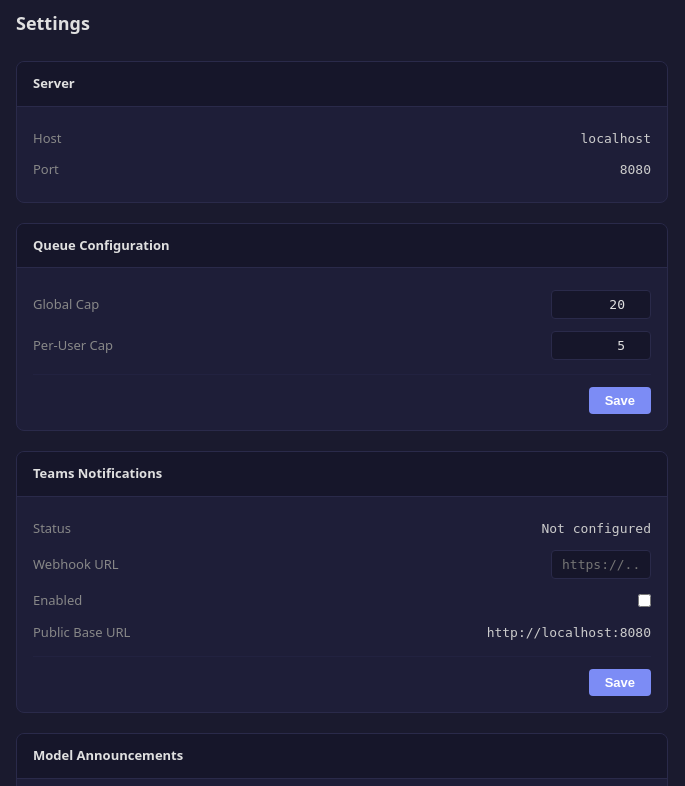
Test: surfaces a save error without crashing
The image size is (685, 786).
Expected: the text "Teams Notifications" is shown, [17,452,667,496]
Step 1. Type "bad" into the field → (601, 564), box [551,550,651,579]
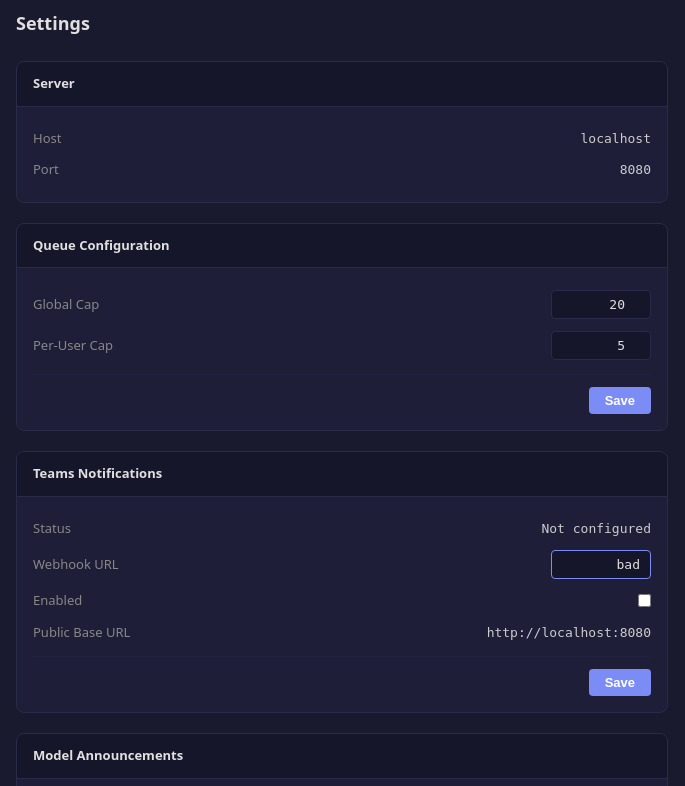
Step 2. Click the button "Save" below "http://localhost:8080" → click(620, 682), box [589,669,651,696]
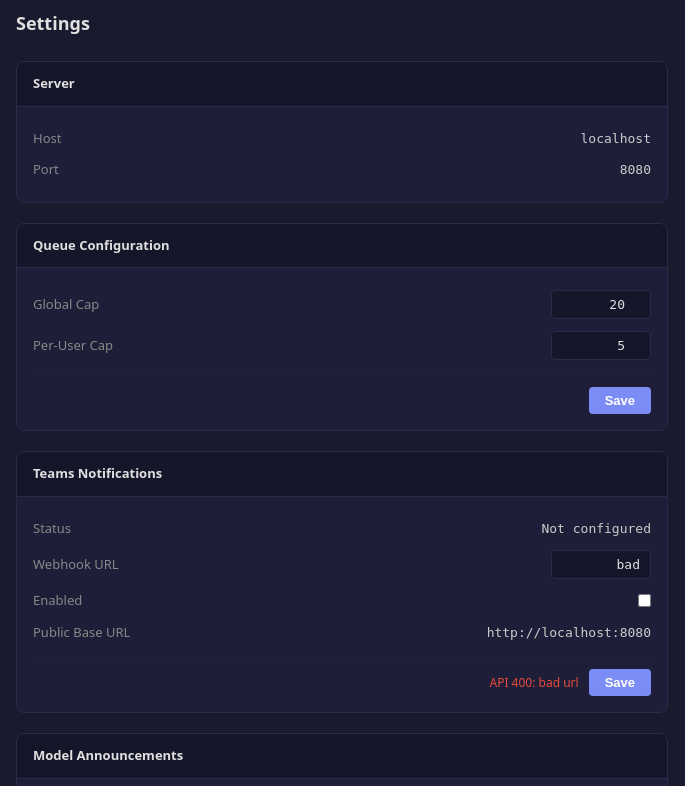
Result: the text "API 400: bad url" is shown at [490,674,579,692]
